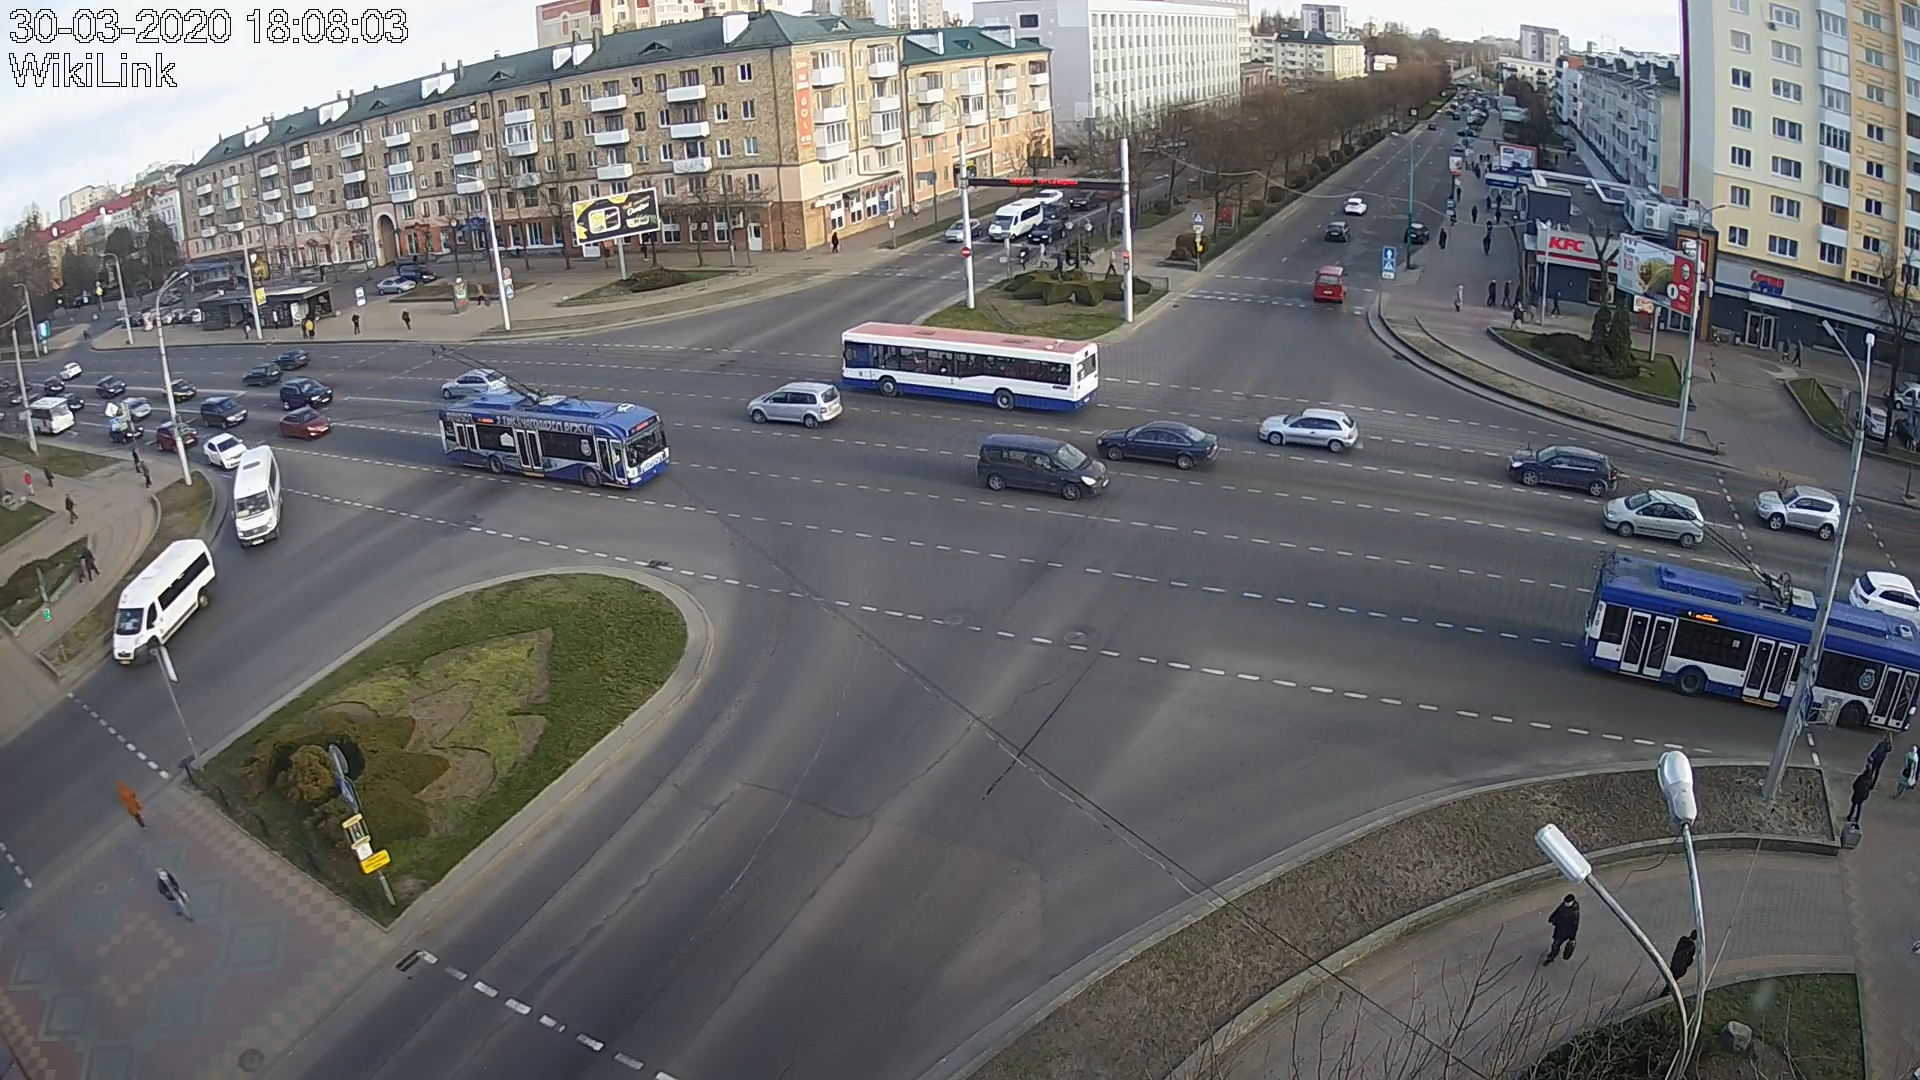bus: (1580, 553, 1913, 737), (841, 320, 1100, 414), (438, 392, 671, 491)
car: (111, 538, 216, 666), (975, 433, 1109, 501), (1601, 489, 1705, 547), (1096, 421, 1218, 469), (1507, 444, 1619, 496), (231, 444, 284, 549), (1754, 485, 1841, 541), (746, 381, 843, 430), (1259, 407, 1360, 454), (986, 196, 1044, 239), (440, 368, 510, 400), (280, 407, 334, 440), (280, 376, 334, 409), (200, 396, 249, 429), (203, 433, 245, 468), (158, 419, 198, 455), (1313, 265, 1349, 302), (243, 363, 284, 386), (1029, 219, 1065, 243), (944, 219, 982, 241), (272, 349, 310, 371)
